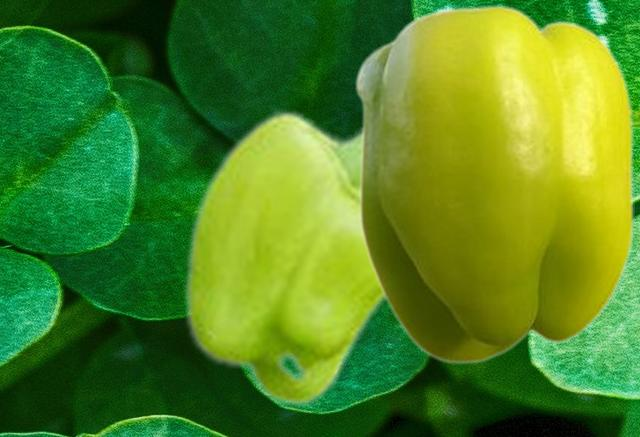bell_pepper: (354, 3, 633, 363), (182, 103, 387, 407)
